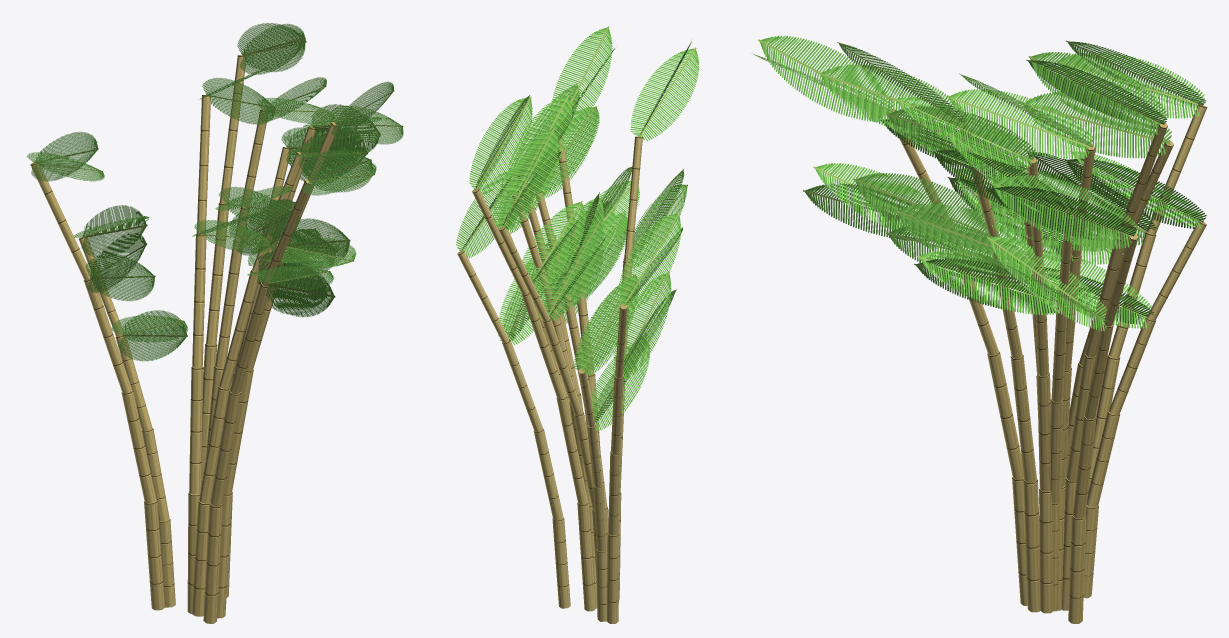
The model's file is bui_tre_2.glb.
3 views of the same model, side by side, from view 1: azimuth 30°, elevation 25°; view 2: azimuth 150°, elevation 25°; view 3: azimuth 270°, elevation 25° (orthographic). The views are drawn at different scales.
Visible parts, largest first — view 1: bui_tre_2; view 2: bui_tre_2; view 3: bui_tre_2.
Part boxes in pixels (x1,y1,x2,y2): bui_tre_2: (27, 23, 403, 623); bui_tre_2: (456, 26, 699, 623); bui_tre_2: (753, 35, 1207, 623).
Bounding box in the file's own units: 0.8336 × 1.88 × 1.28.
2 materials, 2 textured.
